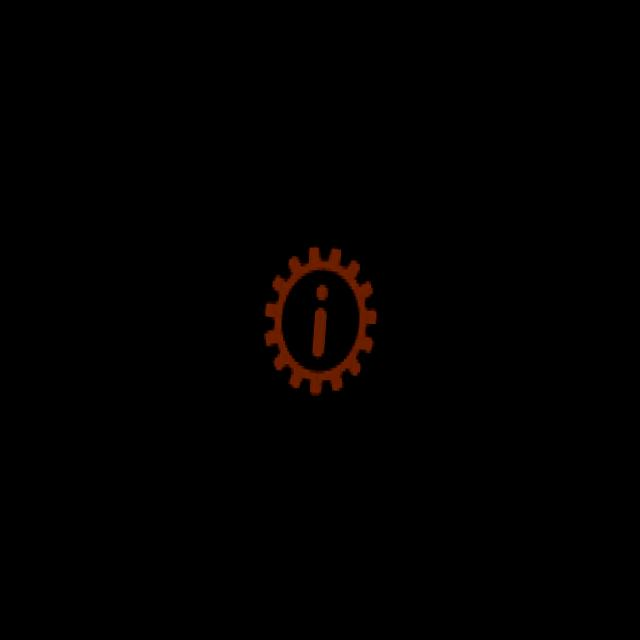kontrolka: (240, 212, 400, 424)
